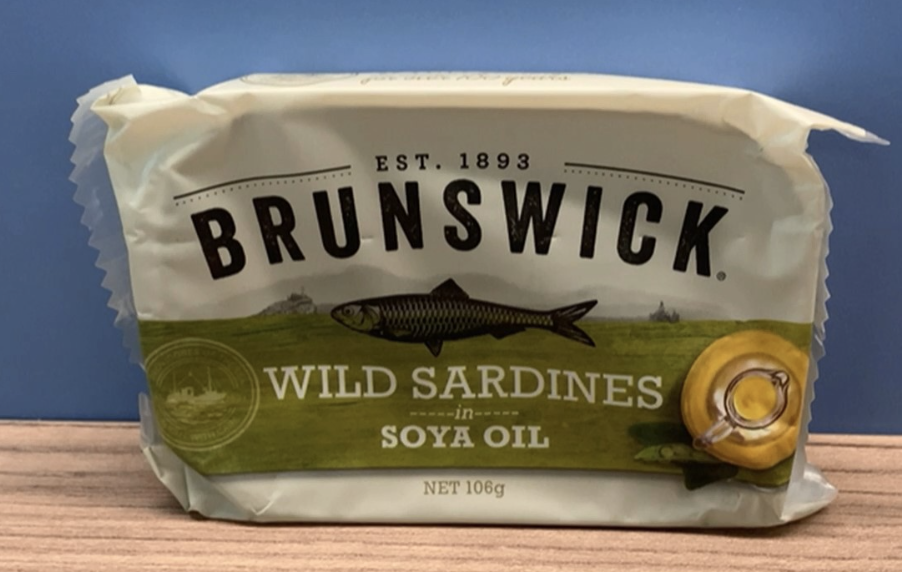sardines_150g: (161, 105, 793, 525)
